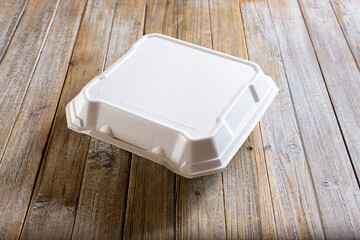styrofoam: (64, 33, 283, 181)
